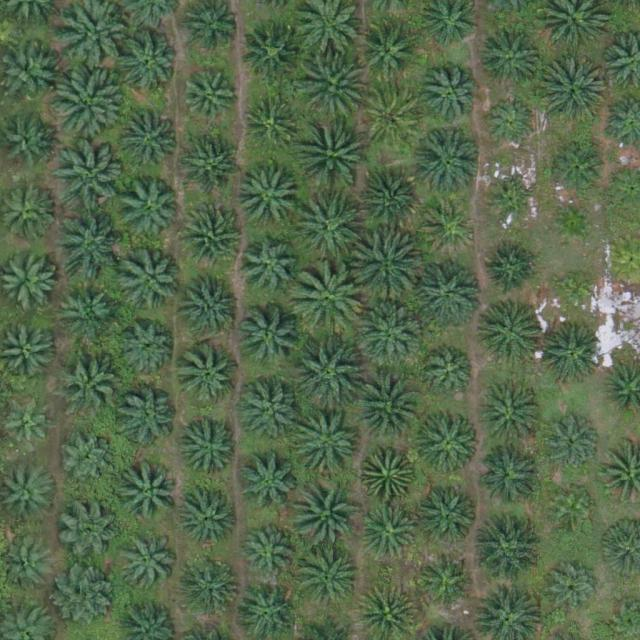Healthy: (537, 55, 608, 126), (297, 51, 368, 122), (53, 210, 123, 281), (294, 544, 364, 615), (291, 475, 361, 546), (295, 410, 365, 481), (294, 338, 365, 408), (292, 194, 362, 265), (349, 232, 419, 303), (357, 299, 427, 370), (352, 370, 422, 441), (299, 116, 369, 187), (57, 141, 127, 212), (52, 69, 123, 139), (293, 265, 363, 335), (414, 258, 484, 328), (471, 515, 541, 585), (413, 127, 483, 197), (117, 177, 180, 240), (177, 488, 240, 551), (179, 204, 242, 267), (235, 453, 298, 516), (417, 409, 480, 472), (479, 300, 542, 363), (180, 134, 243, 197), (117, 30, 180, 93), (57, 281, 119, 344), (59, 350, 121, 413), (58, 499, 120, 562), (57, 564, 119, 627), (120, 251, 183, 313), (121, 461, 183, 524), (117, 533, 179, 596), (182, 557, 245, 619), (179, 417, 242, 479), (179, 344, 241, 407), (240, 236, 302, 299), (239, 305, 301, 368), (359, 170, 421, 233), (418, 487, 480, 550), (481, 387, 543, 450), (480, 444, 542, 507), (538, 323, 600, 386), (480, 27, 542, 90), (419, 64, 481, 127), (358, 19, 420, 82), (116, 109, 178, 172), (115, 387, 177, 449), (184, 274, 246, 336), (236, 168, 298, 230), (238, 379, 300, 441), (362, 87, 424, 149), (244, 22, 306, 84), (422, 201, 477, 256), (2, 464, 57, 519), (61, 433, 116, 488), (120, 321, 175, 376), (363, 503, 418, 558), (422, 550, 477, 605), (484, 241, 539, 296), (547, 559, 602, 614), (545, 414, 600, 469), (549, 143, 604, 198), (483, 98, 538, 153), (243, 96, 298, 151), (182, 73, 237, 128), (242, 524, 296, 579), (362, 446, 416, 501), (425, 347, 479, 402)
Small: (552, 267, 599, 315), (491, 182, 538, 229), (550, 485, 597, 532), (549, 200, 596, 247)
